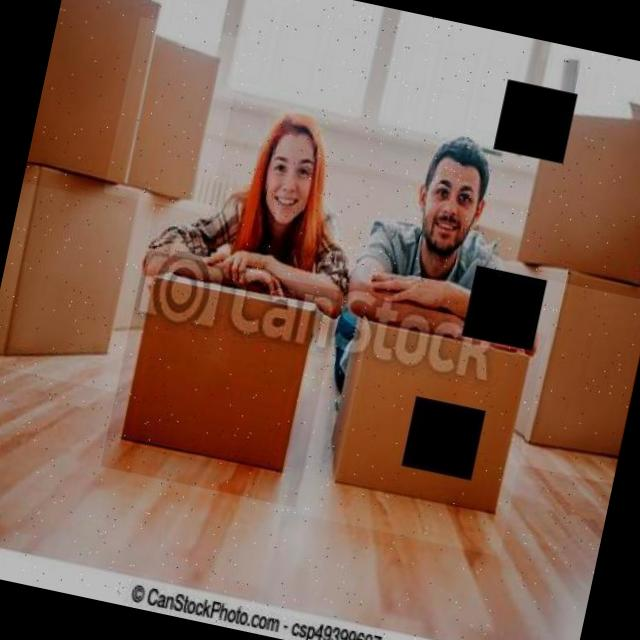box: (295, 292, 546, 558), (100, 249, 340, 508), (464, 60, 640, 301), (0, 141, 161, 392), (487, 236, 640, 483), (22, 0, 175, 204), (102, 16, 245, 214)
